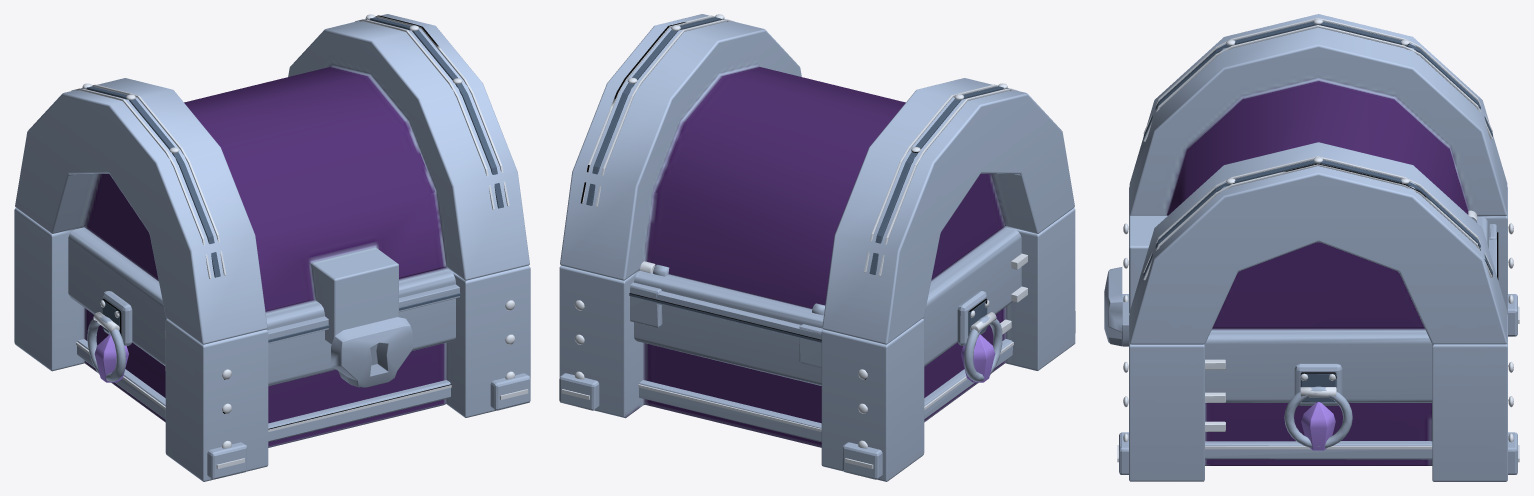
Rendered from moonbound.glb.
3 renders of one model, left to right at view 1: azimuth 30°, elevation 25°; view 2: azimuth 150°, elevation 25°; view 3: azimuth 270°, elevation 25°, orthographic.
Parts seen in each view (by area): view 1: LidShell, Body; view 2: LidShell, Body; view 3: LidShell, Body.
Part boxes in pixels (box(x1,y1,x2,y2)): LidShell: box(15, 14, 529, 344); Body: box(14, 208, 530, 481); LidShell: box(560, 14, 1074, 344); Body: box(559, 208, 1075, 481); LidShell: box(1129, 14, 1507, 344); Body: box(1104, 187, 1519, 481).
Size of the model in its own units: 2.12 by 1.83 by 2.19.
2 materials, 2 textured.
